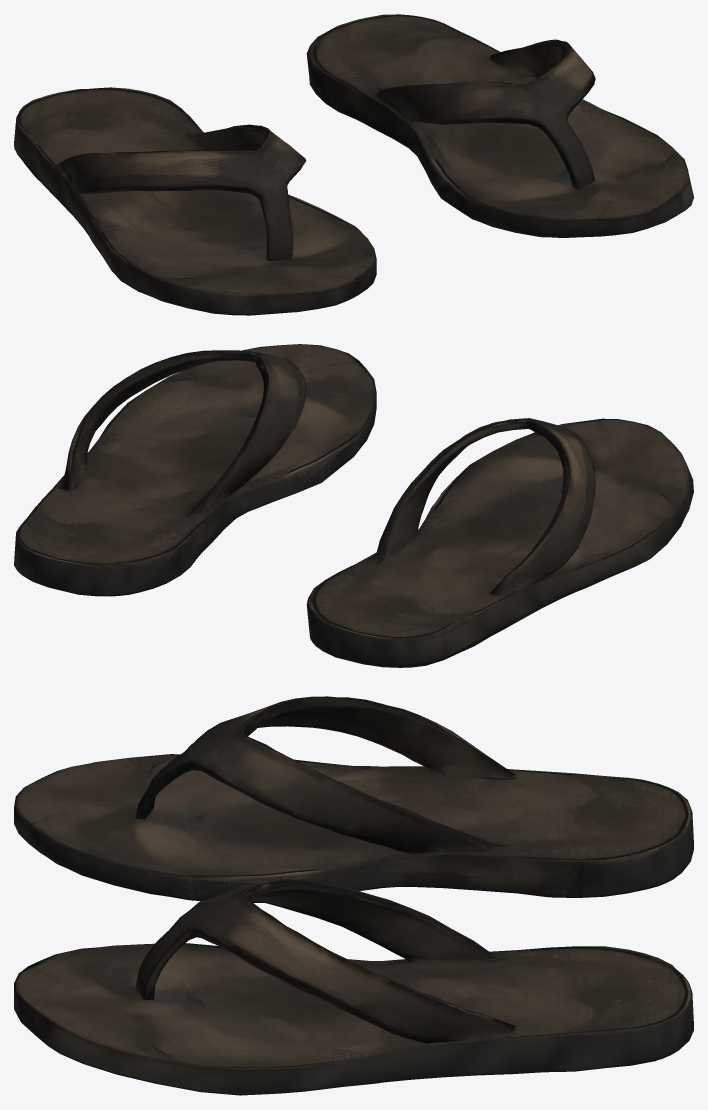
File: Meshy_AI_Flip_Flops_0312155738_texture.fbx
3 views of the same model, one above another, from view 1: azimuth 30°, elevation 25°; view 2: azimuth 150°, elevation 25°; view 3: azimuth 270°, elevation 25° (orthographic). The views are drawn at different scales.
Parts seen in each view (by area): view 1: Mesh_0, Mesh_0.001; view 2: Mesh_0, Mesh_0.001; view 3: Mesh_0.001, Mesh_0.
Part boxes in pixels (left/top/right/bottom): Mesh_0: left=14, top=87, right=376, bottom=315; Mesh_0.001: left=306, top=14, right=693, bottom=237; Mesh_0: left=306, top=418, right=693, bottom=667; Mesh_0.001: left=14, top=344, right=376, bottom=596; Mesh_0.001: left=14, top=879, right=693, bottom=1095; Mesh_0: left=14, top=696, right=693, bottom=902.
Size of the model in its own units: 189 by 36.4 by 173.
1 material, 1 textured.
